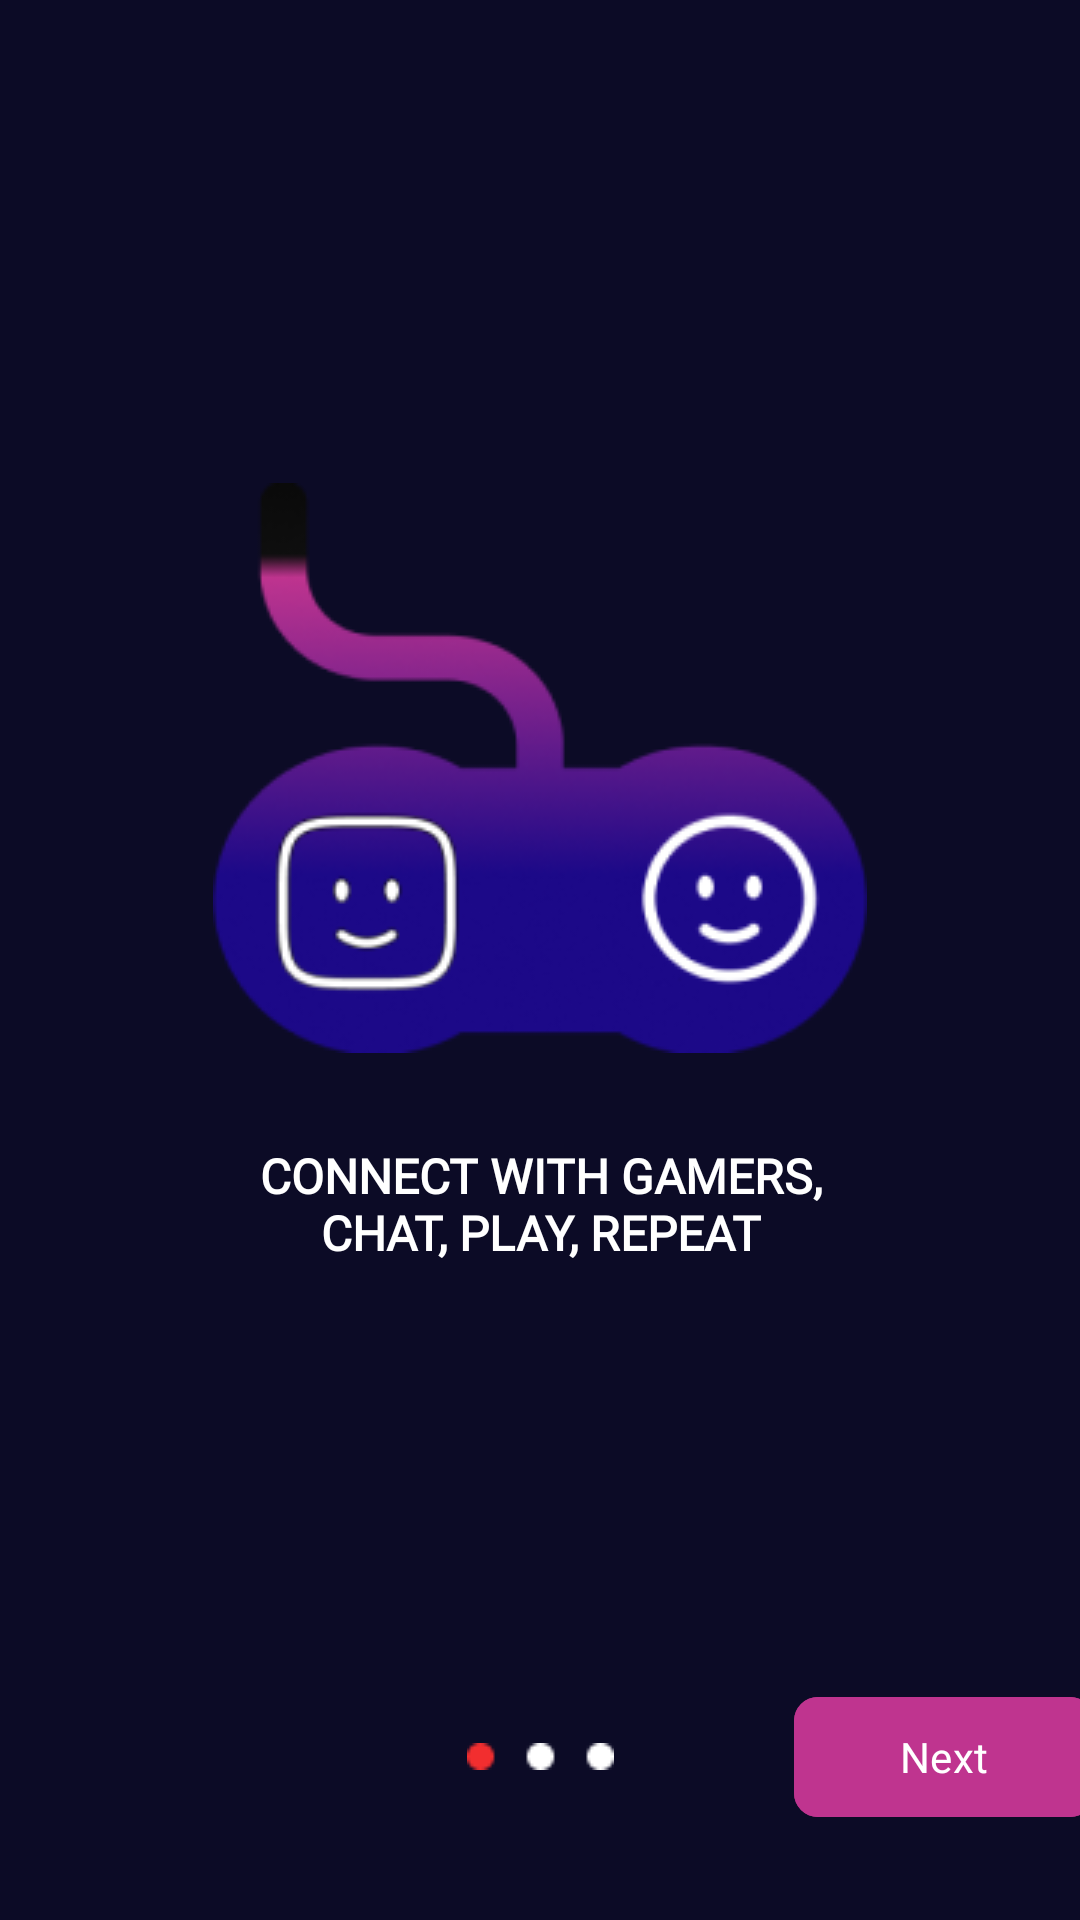

Screen size 1080 x 1920. Icon name, then its box in pixels as (x1, y1, x2, y2):
dots group: (467, 1743, 614, 1770)
